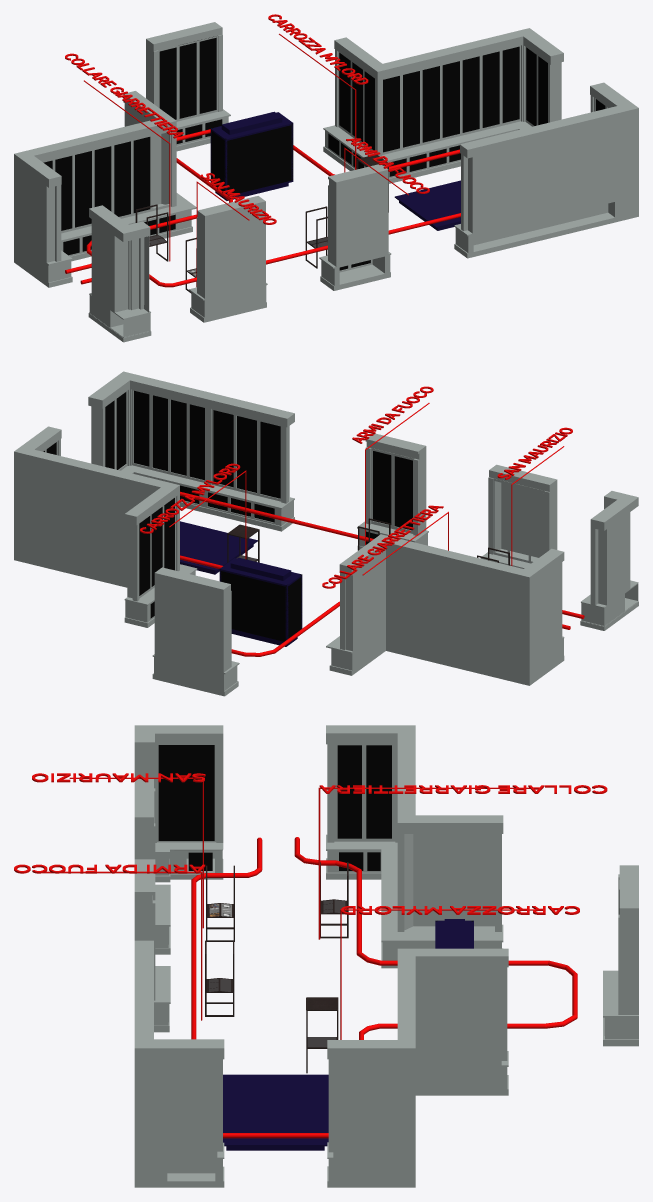
Rendered from rot13.obj.
The picture shows the model from 3 angles, top to bottom: view 1: azimuth 30°, elevation 25°; view 2: azimuth 150°, elevation 25°; view 3: azimuth 270°, elevation 25°; orthographic projection. The views are drawn at different scales.
Parts seen in each view (by area): view 1: Mesh2_Model.001, Mesh1_Model.002, Mesh1_Model.001, Mesh13_Model.001, Mesh12_Group1_Model, Mesh1_Group1_Model, Mesh1_Model, Mesh13_Model.002, Mesh13_Model, Mesh.168_mesh-ad36de9c-5887-4ce1-bb3e-7ac5a3168037, Mesh1_Group1_Model.002, Mesh.125_mesh-a39ea739-f2a6-4fb2-8b71-5afa98010ce8 (+8 smaller); view 2: Mesh13_Model, Mesh1_Model.001, Mesh2_Model, Mesh2_Model.001, Mesh12_Group1_Model, Mesh1_Model, Mesh.073_mesh-a4dc922d-1922-489d-93c3-cfa73dd81271, Mesh13_Model.001, Mesh1_Group1_Model, Mesh.170_mesh-a7ab9978-162f-43d9-b42f-0730d90e36f6, Mesh1_Group1_Model.001, Mesh1_Model.002 (+9 smaller); view 3: Mesh1_Model.001, Mesh2_Model.001, Mesh13_Model.001, Mesh13_Model, Mesh.125_mesh-a39ea739-f2a6-4fb2-8b71-5afa98010ce8, Mesh1_Model, Mesh13_Model.002, Mesh1_Group1_Model.002, Mesh1_Group1_Model, Mesh12_Group1_Model, Mesh6_Model, Mesh5_Model (+5 smaller).
Part boxes in pixels (x1,y1,x2,y2): Mesh2_Model.001: (454,82,638,258); Mesh1_Model.002: (328,46,547,176); Mesh1_Model.001: (323,28,563,183); Mesh13_Model.001: (14,94,196,287); Mesh12_Group1_Model: (189,196,267,322); Mesh1_Group1_Model: (319,164,391,290); Mesh1_Model: (88,205,151,342); Mesh13_Model.002: (43,137,175,255); Mesh13_Model: (14,91,196,265); Mesh.168_mesh-ad36de9c-5887-4ce1-bb3e-7ac5a3168037: (227,125,291,195); Mesh1_Group1_Model.002: (65,129,460,287); Mesh.125_mesh-a39ea739-f2a6-4fb2-8b71-5afa98010ce8: (395,180,460,226); Mesh13_Model: (326,534,563,685); Mesh1_Model.001: (14,426,197,627); Mesh2_Model: (105,390,280,522); Mesh2_Model.001: (88,371,294,531); Mesh12_Group1_Model: (480,464,557,568); Mesh1_Model: (580,491,638,630); Mesh.073_mesh-a4dc922d-1922-489d-93c3-cfa73dd81271: (159,581,218,671); Mesh13_Model.001: (326,542,564,685); Mesh1_Group1_Model: (357,433,428,550); Mesh.170_mesh-a7ab9978-162f-43d9-b42f-0730d90e36f6: (221,571,285,641); Mesh1_Group1_Model.001: (366,451,412,544); Mesh1_Model.002: (43,442,174,618); Mesh1_Model.001: (327,948,508,1187); Mesh2_Model.001: (134,940,224,1187); Mesh13_Model.001: (326,733,503,968); Mesh13_Model: (326,725,503,960); Mesh.125_mesh-a39ea739-f2a6-4fb2-8b71-5afa98010ce8: (223,1074,328,1144); Mesh1_Model: (134,725,223,882); Mesh13_Model.002: (337,745,391,870); Mesh1_Group1_Model.002: (191,837,577,1138); Mesh1_Group1_Model: (134,859,170,1032); Mesh12_Group1_Model: (134,779,170,954); Mesh6_Model: (158,745,186,840); Mesh5_Model: (186,745,214,840).
Bounding box in the file's own units: 22.04 × 5 × 18.02.
